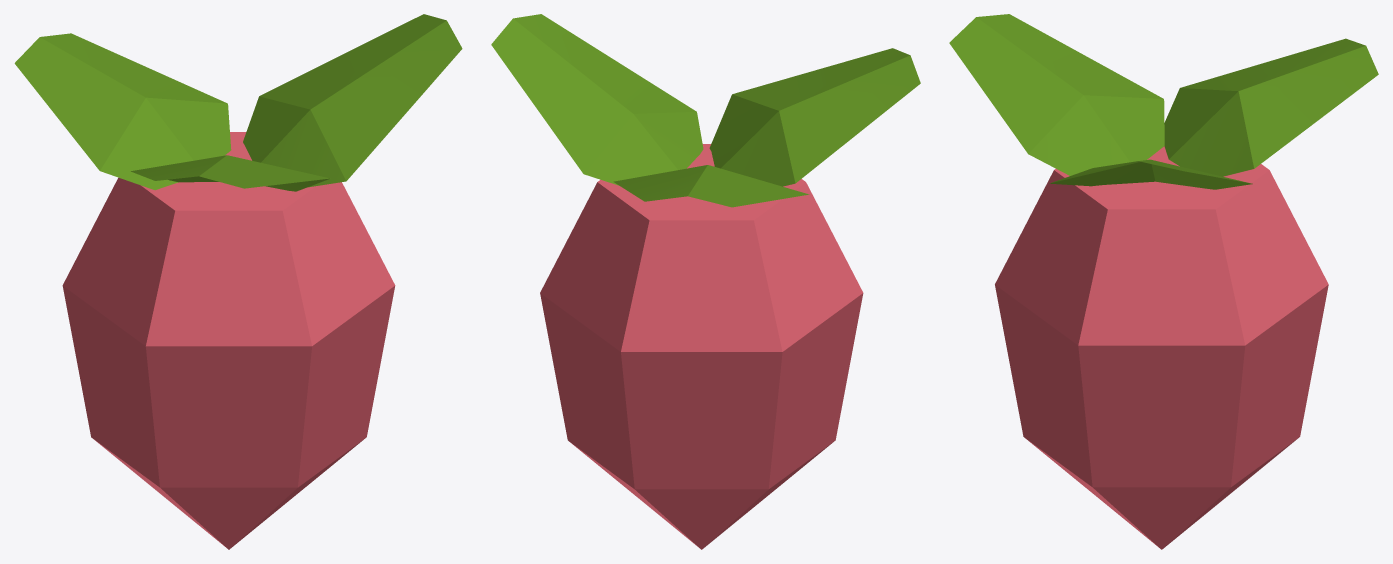
The model's file is radish.fbx.
3 renders of one model, left to right at view 1: azimuth 30°, elevation 25°; view 2: azimuth 150°, elevation 25°; view 3: azimuth 270°, elevation 25°, orthographic. The views are drawn at different scales.
Parts seen in each view (by area): view 1: radish; view 2: radish; view 3: radish.
Part boxes in pixels (<box>): radish: <box>14,14,462,549</box>; radish: <box>491,14,920,549</box>; radish: <box>949,14,1378,549</box>.
Size of the model in its own units: 78.88 by 103 by 82.24.
